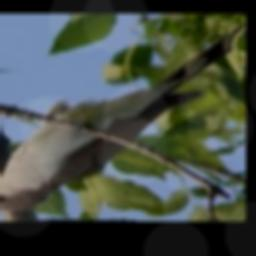Cuckoo: (0, 22, 246, 210)
